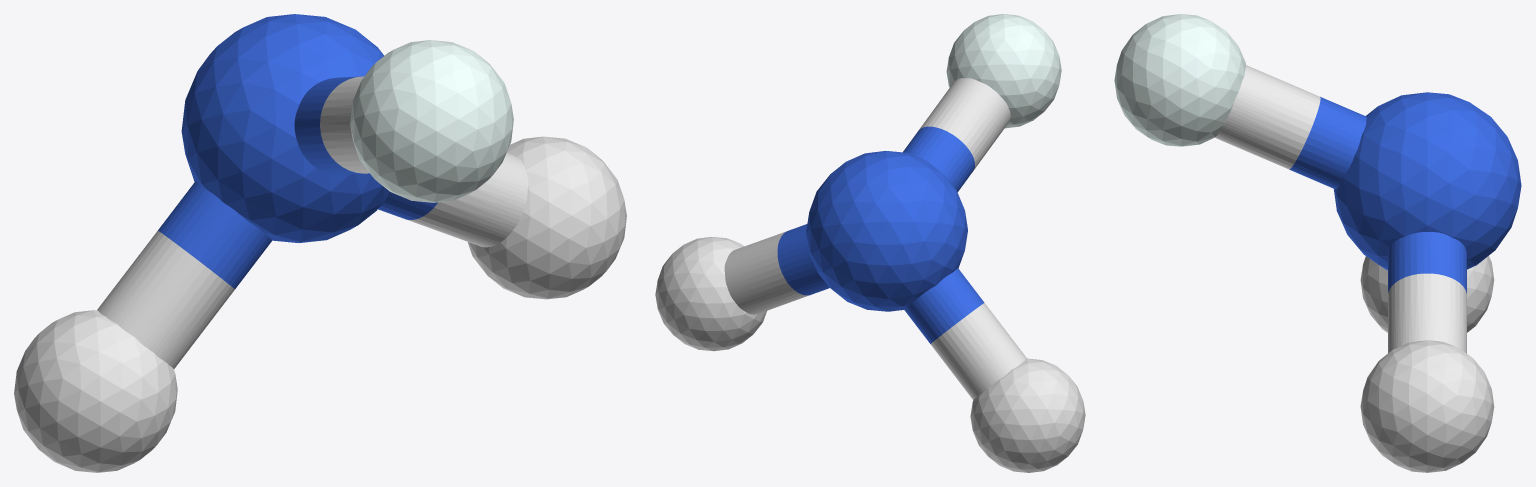
The picture shows the model from 3 angles, left to right: view 1: azimuth 30°, elevation 25°; view 2: azimuth 150°, elevation 25°; view 3: azimuth 270°, elevation 25°; orthographic projection. The views are drawn at different scales.
Parts seen in each view (by area): view 1: Shape_IndexedFaceSet.002, Shape_IndexedFaceSet.003, Shape_IndexedFaceSet.001, Shape_IndexedFaceSet, Shape_IndexedFaceSet.009, Shape_IndexedFaceSet.008, Shape_IndexedFaceSet.012, Shape_IndexedFaceSet.006, Shape_IndexedFaceSet.004, Shape_IndexedFaceSet.011; view 2: Shape_IndexedFaceSet.002, Shape_IndexedFaceSet.001, Shape_IndexedFaceSet.003, Shape_IndexedFaceSet, Shape_IndexedFaceSet.009, Shape_IndexedFaceSet.006, Shape_IndexedFaceSet.012, Shape_IndexedFaceSet.008, Shape_IndexedFaceSet.004, Shape_IndexedFaceSet.011; view 3: Shape_IndexedFaceSet.002, Shape_IndexedFaceSet, Shape_IndexedFaceSet.003, Shape_IndexedFaceSet.006, Shape_IndexedFaceSet.012, Shape_IndexedFaceSet.004, Shape_IndexedFaceSet.011, Shape_IndexedFaceSet.001.
Boxes of the visible parts, x1,y1,x2,y2 form: Shape_IndexedFaceSet.002: [181, 14, 391, 242]; Shape_IndexedFaceSet.003: [350, 40, 513, 202]; Shape_IndexedFaceSet.001: [14, 310, 177, 472]; Shape_IndexedFaceSet: [467, 136, 626, 299]; Shape_IndexedFaceSet.009: [97, 231, 234, 368]; Shape_IndexedFaceSet.008: [158, 181, 271, 288]; Shape_IndexedFaceSet.012: [407, 152, 528, 247]; Shape_IndexedFaceSet.006: [320, 76, 369, 173]; Shape_IndexedFaceSet.004: [294, 76, 362, 174]; Shape_IndexedFaceSet.011: [378, 192, 437, 219]; Shape_IndexedFaceSet.002: [806, 151, 967, 311]; Shape_IndexedFaceSet.001: [970, 358, 1085, 472]; Shape_IndexedFaceSet.003: [946, 14, 1061, 128]; Shape_IndexedFaceSet: [655, 237, 766, 351]; Shape_IndexedFaceSet.009: [930, 303, 1027, 399]; Shape_IndexedFaceSet.006: [919, 78, 1010, 169]; Shape_IndexedFaceSet.012: [724, 231, 808, 314]; Shape_IndexedFaceSet.008: [904, 268, 984, 343]; Shape_IndexedFaceSet.004: [903, 126, 974, 192]; Shape_IndexedFaceSet.011: [777, 224, 829, 295]; Shape_IndexedFaceSet.002: [1334, 92, 1521, 269]; Shape_IndexedFaceSet: [1360, 340, 1494, 472]; Shape_IndexedFaceSet.003: [1114, 14, 1245, 146]; Shape_IndexedFaceSet.006: [1215, 65, 1320, 169]; Shape_IndexedFaceSet.012: [1388, 273, 1466, 353]; Shape_IndexedFaceSet.004: [1289, 97, 1366, 189]; Shape_IndexedFaceSet.011: [1388, 232, 1466, 293]; Shape_IndexedFaceSet.001: [1360, 256, 1494, 332].
Bounding box in the file's own units: 0.3689 × 0.2887 × 0.2699.
